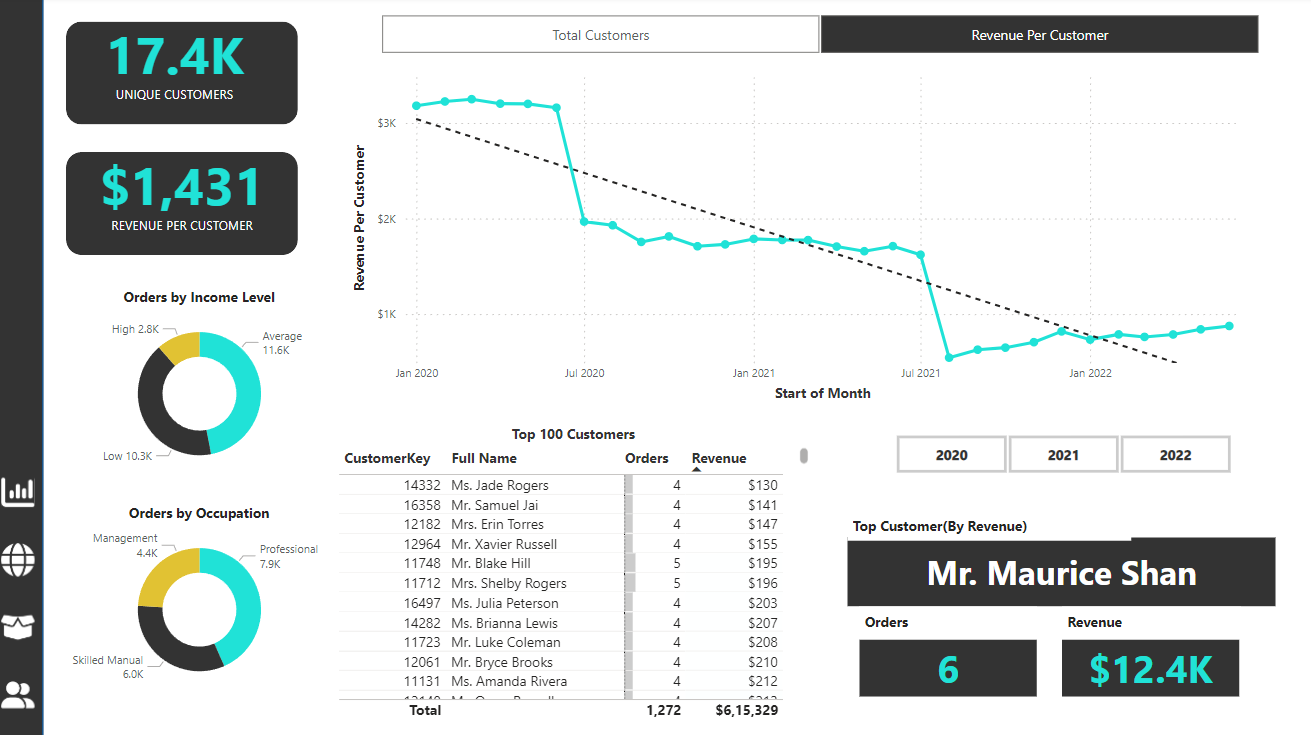

The dashboard page shown, as its layout file describes it:
{"tool":"powerbi","page":{"name":"Customer Details","canvas":[1280,720],"ordinal":3},"visuals":[{"type":"shape","box":[0,0,45,720],"z":0},{"type":"actionButton","box":[0,461.5,85.8,40.5],"z":0,"group":"g1"},{"type":"shape","box":[66.2,25,225,100],"z":1000},{"type":"actionButton","box":[0,526.8,85.8,40.5],"z":1000,"group":"g1"},{"type":"card","fields":{"Values":["Measure Table.Total Customers"]},"box":[66.2,0,210,125],"z":2000},{"type":"actionButton","box":[0,592.1,85.8,40.5],"z":2000,"group":"g1"},{"type":"shape","box":[66.2,151.2,225,100],"z":3000},{"type":"actionButton","box":[0,657.4,85.8,40.5],"z":3000,"group":"g1"},{"type":"card","fields":{"Values":["Measure Table.Average Revenue Per Customer"]},"box":[73.8,126.2,210,125],"z":4000},{"type":"lineChart","title":"Weekly Customers","fields":{"Category":["Calendar Lookup.Date Hierarchy.Start of Year","Calendar Lookup.Date Hierarchy.Start of Month","Calendar Lookup.Date Hierarchy.Start of Week","Calendar Lookup.Date Hierarchy.Date"],"Y":["Measure Table.Average Revenue Per Customer"]},"box":[340,63.1,880.9,335.2],"z":5000},{"type":"donutChart","title":"Orders by Income Level","fields":{"Category":["Customer Lookup.Income Level"],"Y":["Measure Table.Total Orders"]},"box":[66.7,281.7,258.3,188.3],"z":6000},{"type":"donutChart","title":"Orders by Occupation","fields":{"Category":["Customer Lookup.Occupation"],"Y":["Measure Table.Total Orders"]},"box":[66.7,491.7,258.3,188.3],"z":7000},{"type":"tableEx","title":"Top 100 Customers","fields":{"Values":["Customer Lookup.CustomerKey","Customer Lookup.Customer Full Name(CC)","Measure Table.Total Orders","Measure Table.Total Revenue"]},"box":[325.5,414.5,466.3,291.5],"z":8000},{"type":"card","fields":{"Values":["Customer Lookup.Full Name"]},"box":[825.8,525.9,415,66.7],"z":9000},{"type":"card","fields":{"Values":["Measure Table.Total Orders"]},"box":[837.5,624.2,171.7,55],"z":10000},{"type":"card","fields":{"Values":["Measure Table.Total Revenue"]},"box":[1034.1,624.2,171.7,55],"z":11000},{"type":"textbox","box":[825.8,498.7,275.3,29.1],"z":12000},{"type":"textbox","box":[837.5,592.5,171.7,31.7],"z":13000},{"type":"textbox","box":[1034.1,592.5,173.3,31.7],"z":14000},{"type":"slicer","fields":{"Values":["Calendar Lookup.Year"]},"box":[846.9,419.4,374,50.2],"z":15000},{"type":"group","id":"g1","title":"Navigation Buttons","box":[0,461.5,85.8,236.4],"z":16000},{"type":"slicer","fields":{"Values":["Customer Metric Selection.Customer Metric Selection"]},"box":[348.1,11.3,900.3,50.2],"z":16001}]}

Visuals, with their boxes in screenshot pixels (x1, y1, x2, y2), scaled from the page's 1280x720 canvas onto the 1311x735 screenshot:
shape: {"x1": 0, "y1": 0, "x2": 46, "y2": 734}
actionButton: {"x1": 0, "y1": 471, "x2": 88, "y2": 512}
shape: {"x1": 68, "y1": 26, "x2": 298, "y2": 128}
actionButton: {"x1": 0, "y1": 538, "x2": 88, "y2": 579}
card - Measure Table.Total Customers: {"x1": 68, "y1": 0, "x2": 283, "y2": 128}
actionButton: {"x1": 0, "y1": 604, "x2": 88, "y2": 646}
shape: {"x1": 68, "y1": 154, "x2": 298, "y2": 256}
actionButton: {"x1": 0, "y1": 671, "x2": 88, "y2": 712}
card - Measure Table.Average Revenue Per Customer: {"x1": 76, "y1": 129, "x2": 291, "y2": 256}
"Weekly Customers" lineChart: {"x1": 348, "y1": 64, "x2": 1250, "y2": 407}
"Orders by Income Level" donutChart: {"x1": 68, "y1": 288, "x2": 333, "y2": 480}
"Orders by Occupation" donutChart: {"x1": 68, "y1": 502, "x2": 333, "y2": 694}
"Top 100 Customers" tableEx: {"x1": 333, "y1": 423, "x2": 811, "y2": 721}
card - Customer Lookup.Full Name: {"x1": 846, "y1": 537, "x2": 1271, "y2": 605}
card - Measure Table.Total Orders: {"x1": 858, "y1": 637, "x2": 1034, "y2": 693}
card - Measure Table.Total Revenue: {"x1": 1059, "y1": 637, "x2": 1235, "y2": 693}
textbox: {"x1": 846, "y1": 509, "x2": 1128, "y2": 539}
textbox: {"x1": 858, "y1": 605, "x2": 1034, "y2": 637}
textbox: {"x1": 1059, "y1": 605, "x2": 1237, "y2": 637}
slicer - Calendar Lookup.Year: {"x1": 867, "y1": 428, "x2": 1250, "y2": 479}
"Navigation Buttons" group: {"x1": 0, "y1": 471, "x2": 88, "y2": 712}
slicer - Customer Metric Selection.Customer Metric Selection: {"x1": 357, "y1": 12, "x2": 1279, "y2": 63}
